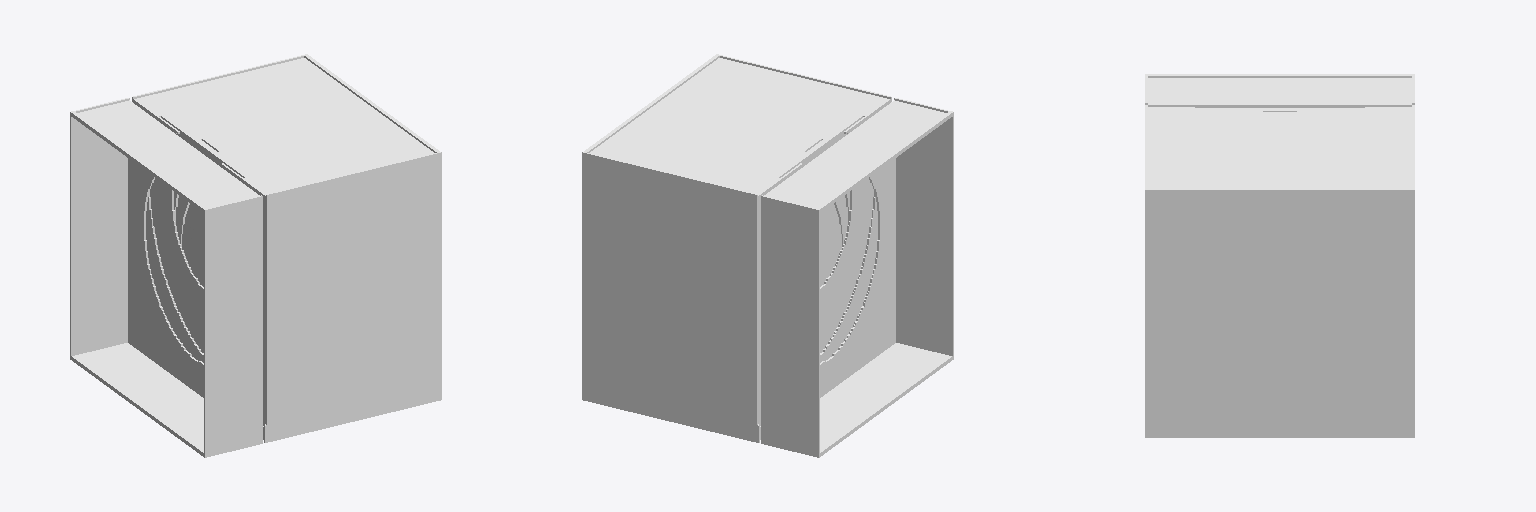
File: playerv3.obj
The picture shows the model from 3 angles: view 1: azimuth 30°, elevation 25°; view 2: azimuth 150°, elevation 25°; view 3: azimuth 270°, elevation 25°; orthographic projection.
Visible parts, largest first — view 1: object 1; view 2: object 1; view 3: object 1.
Part boxes in pixels (x1,y1,x2,y2): object 1: (70, 54, 441, 457); object 1: (582, 54, 953, 457); object 1: (1145, 74, 1414, 437).
Size of the model in its own units: 12.6 by 12.6 by 12.4.